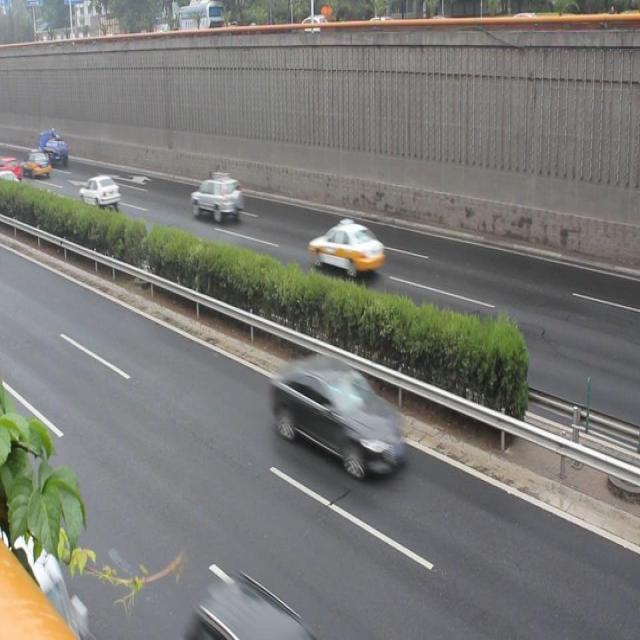car: (268, 344, 410, 486), (186, 567, 356, 640), (308, 213, 385, 282), (188, 172, 248, 224), (80, 172, 124, 210)
